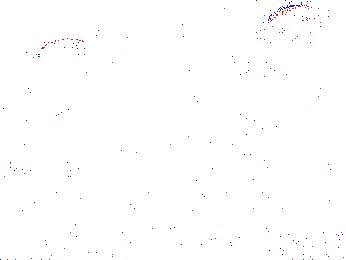moon jellyfish: (1, 93, 96, 178), (259, 4, 335, 78), (25, 37, 110, 99), (232, 49, 318, 105), (87, 9, 175, 45)
